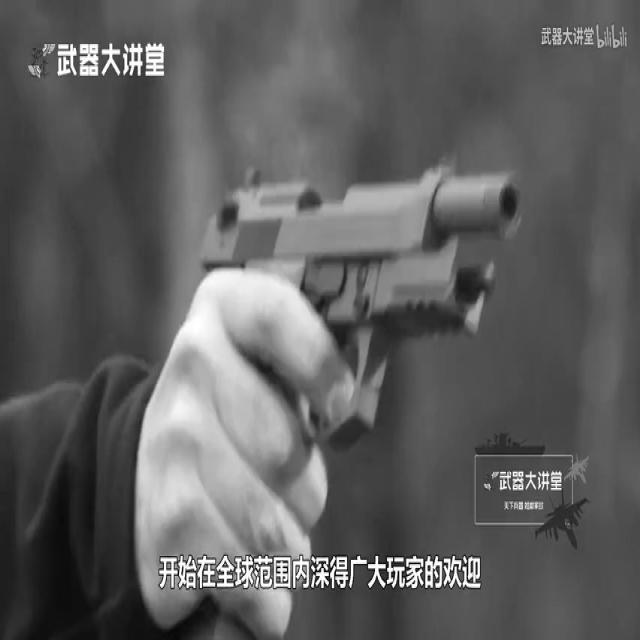Hand-Gun: (147, 117, 576, 592)
